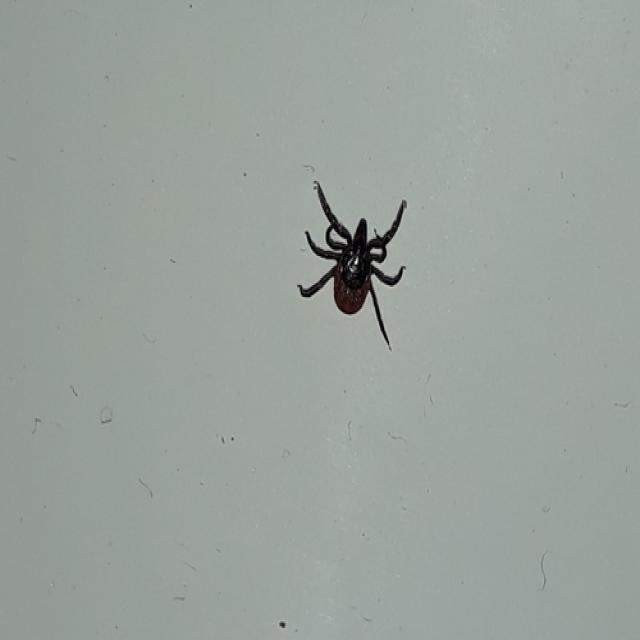Ixodes Ricinus-F: (297, 181, 408, 353)
